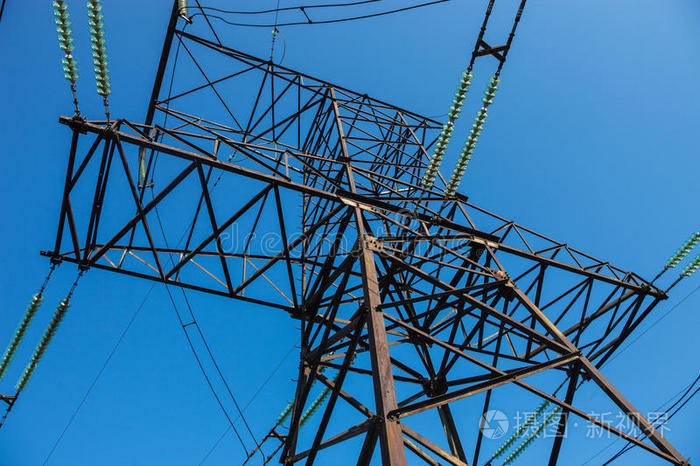insulator: (444, 76, 502, 193), (421, 72, 470, 186), (19, 300, 69, 391), (493, 400, 560, 460), (1, 294, 44, 376), (87, 1, 111, 99), (52, 1, 76, 83), (669, 230, 700, 276)
